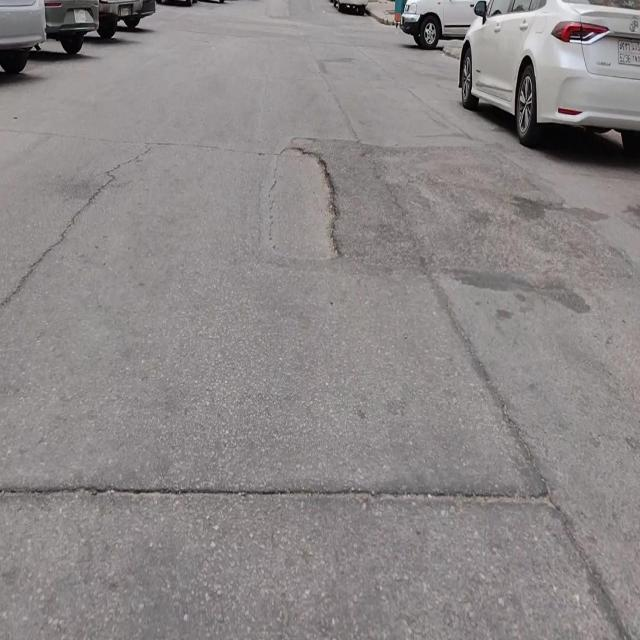Pothole: (267, 144, 343, 263)
